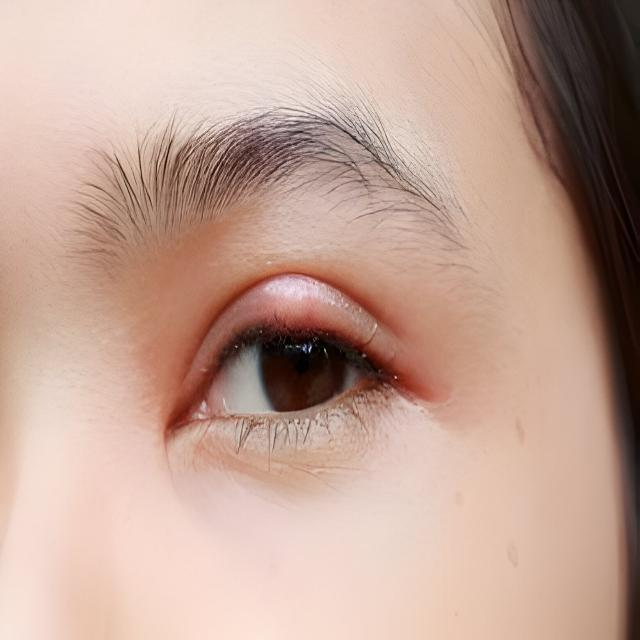Stye: (244, 265, 352, 363)
